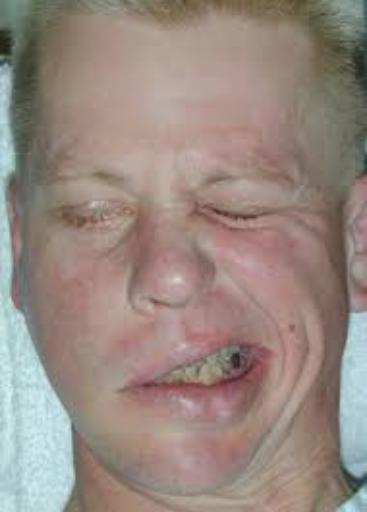left_eye: (204, 198, 275, 228)
left_lip_corner: (253, 337, 280, 365)
right_eye: (53, 196, 132, 228)
right_lip_corner: (118, 370, 163, 403)
